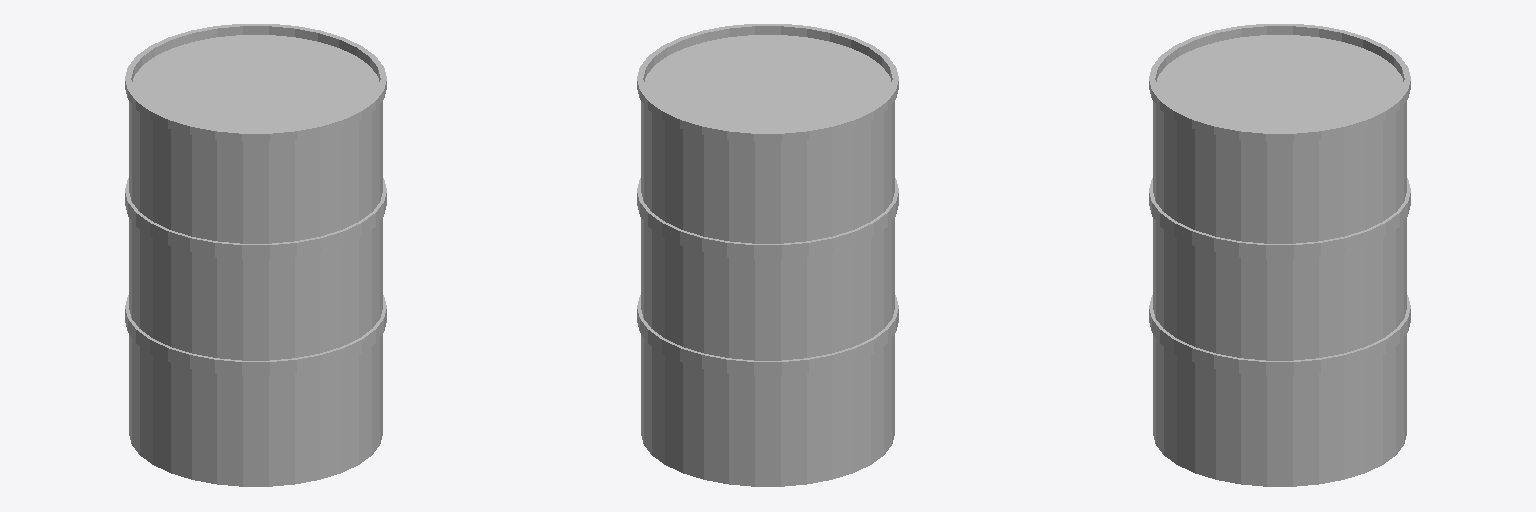
Rendered from burrel.obj.
The picture shows the model from 3 angles: view 1: azimuth 30°, elevation 25°; view 2: azimuth 150°, elevation 25°; view 3: azimuth 270°, elevation 25°; orthographic projection.
Parts seen in each view (by area): view 1: Circle; view 2: Circle; view 3: Circle.
Boxes of the visible parts, x1,y1,x2,y2 form: Circle: [125, 24, 386, 486]; Circle: [637, 24, 898, 486]; Circle: [1149, 24, 1410, 486].
Size of the model in its own units: 2.05 by 3.08 by 2.06.